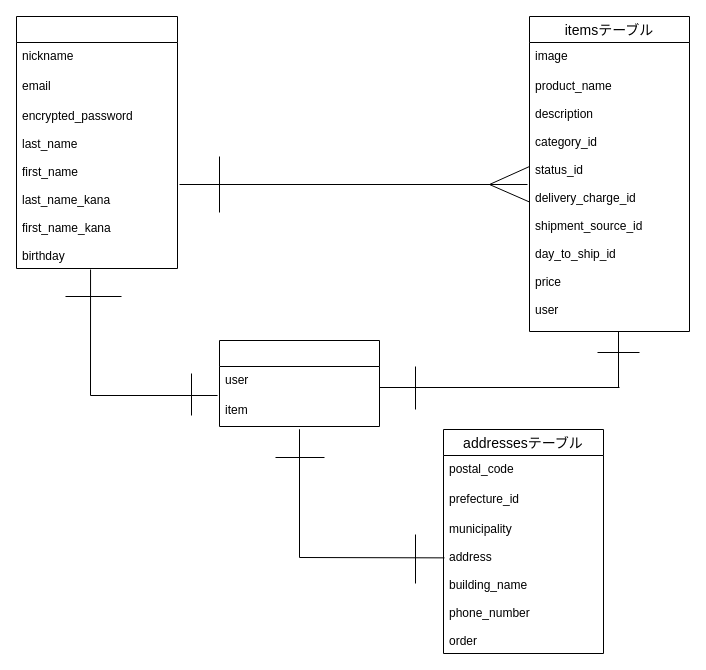
Image size: 706x670. Some labels were removed from this diagram. Each missing label, with the box of its shape:
orders: (218, 340, 380, 426)
usersテーブル: (16, 16, 178, 268)
